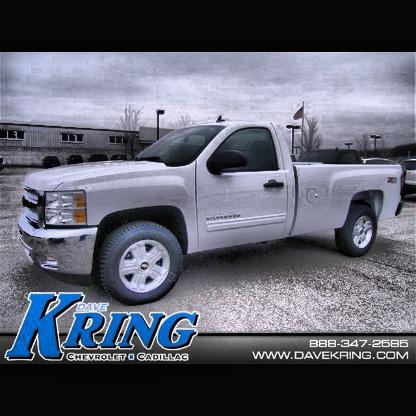Chevrolet Silverado 1500 Regular Cab 2012: (18, 117, 406, 306)
